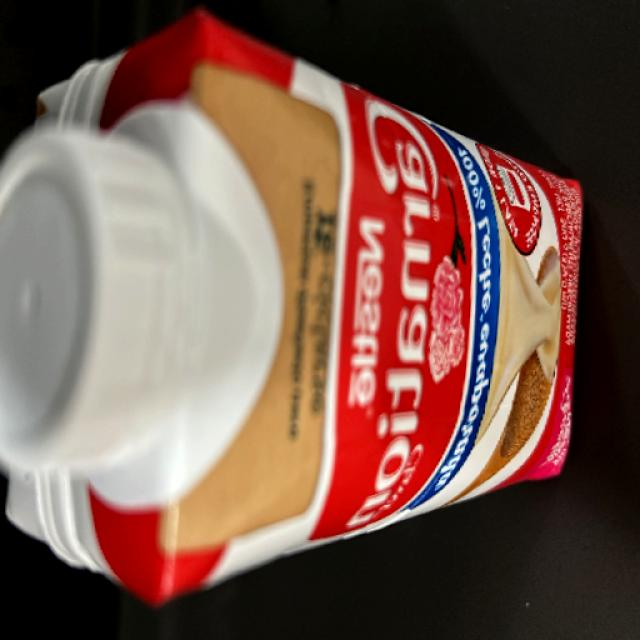nestleCarnation: (32, 53, 578, 517)
